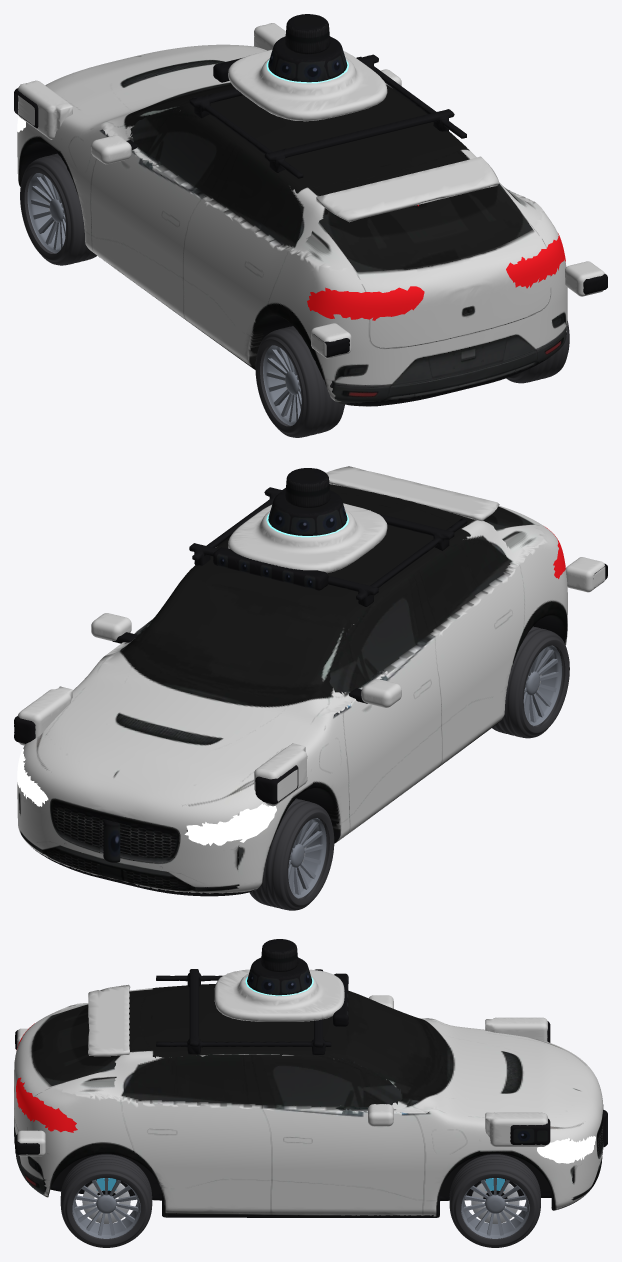
The model's file is teleopWaymoClean.26413873.glb.
3 views of the same model, one above another, from view 1: azimuth 30°, elevation 25°; view 2: azimuth 150°, elevation 25°; view 3: azimuth 270°, elevation 25° (orthographic). The views are drawn at different scales.
Parts seen in each view (by area): view 1: Body, Tyre, Rim, Tail; view 2: Body, Tyre, Rim, Head; view 3: Body, Tyre, Rim, Tail, Disc, Head.
Boxes of the visible parts, <box> form: Body: <box>14,14,607,406</box>; Tyre: <box>20,153,569,437</box>; Rim: <box>27,173,301,425</box>; Tail: <box>307,205,565,320</box>; Body: <box>14,466,607,896</box>; Tyre: <box>249,626,569,910</box>; Rim: <box>288,645,562,898</box>; Head: <box>17,745,276,845</box>; Body: <box>14,939,607,1217</box>; Tyre: <box>60,1154,540,1247</box>; Rim: <box>72,1178,529,1238</box>; Tail: <box>16,1023,77,1132</box>; Disc: <box>82,1180,519,1223</box>; Head: <box>537,1136,595,1163</box>.
Bounding box in the file's own units: 2.2 × 2.14 × 4.57.
8 materials, 1 textured.
